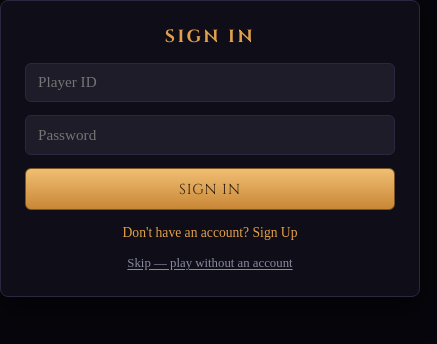
Test: Login component › clears error when toggling sign-in/sign-up mode
The image size is (437, 344).
Type "player1" into the field with placeholder "Player ID" at (210, 82), box [25, 63, 395, 102]
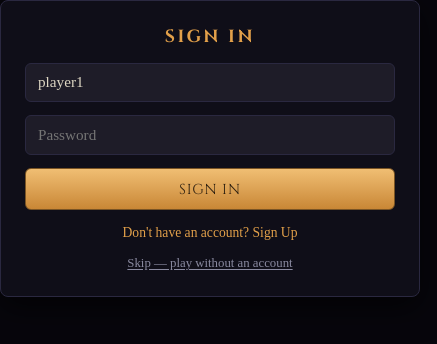
Type "wrong" into the password field with placeholder "Password" at (210, 135), box [25, 115, 395, 155]
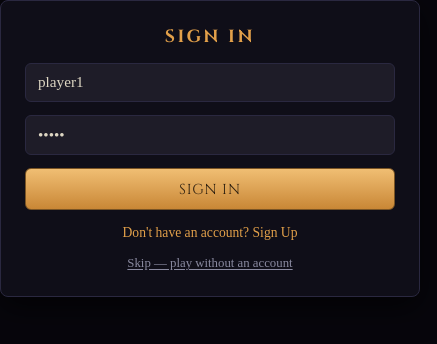
Click the button "Sign In" at (210, 189), box [25, 168, 395, 210]
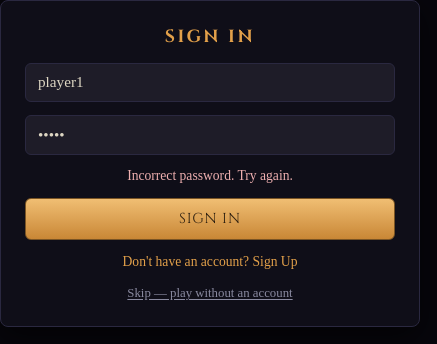
expect the text "Incorrect password. Try again." is shown: met, box [127, 168, 293, 183]
Click the button "Don't have an account? Sign Up" at (210, 262), box [25, 253, 395, 271]
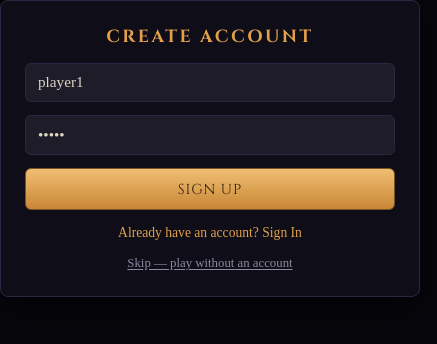
expect the text "Incorrect password. Try again." is gone: met
